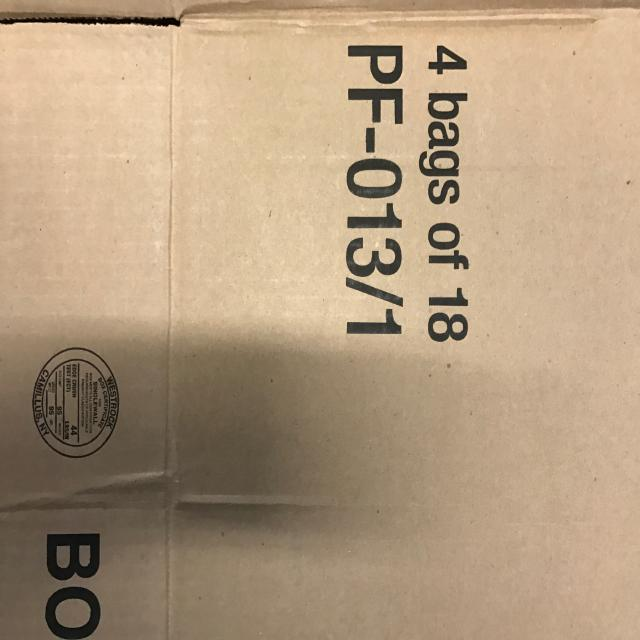cardboard: (1, 3, 639, 638)
